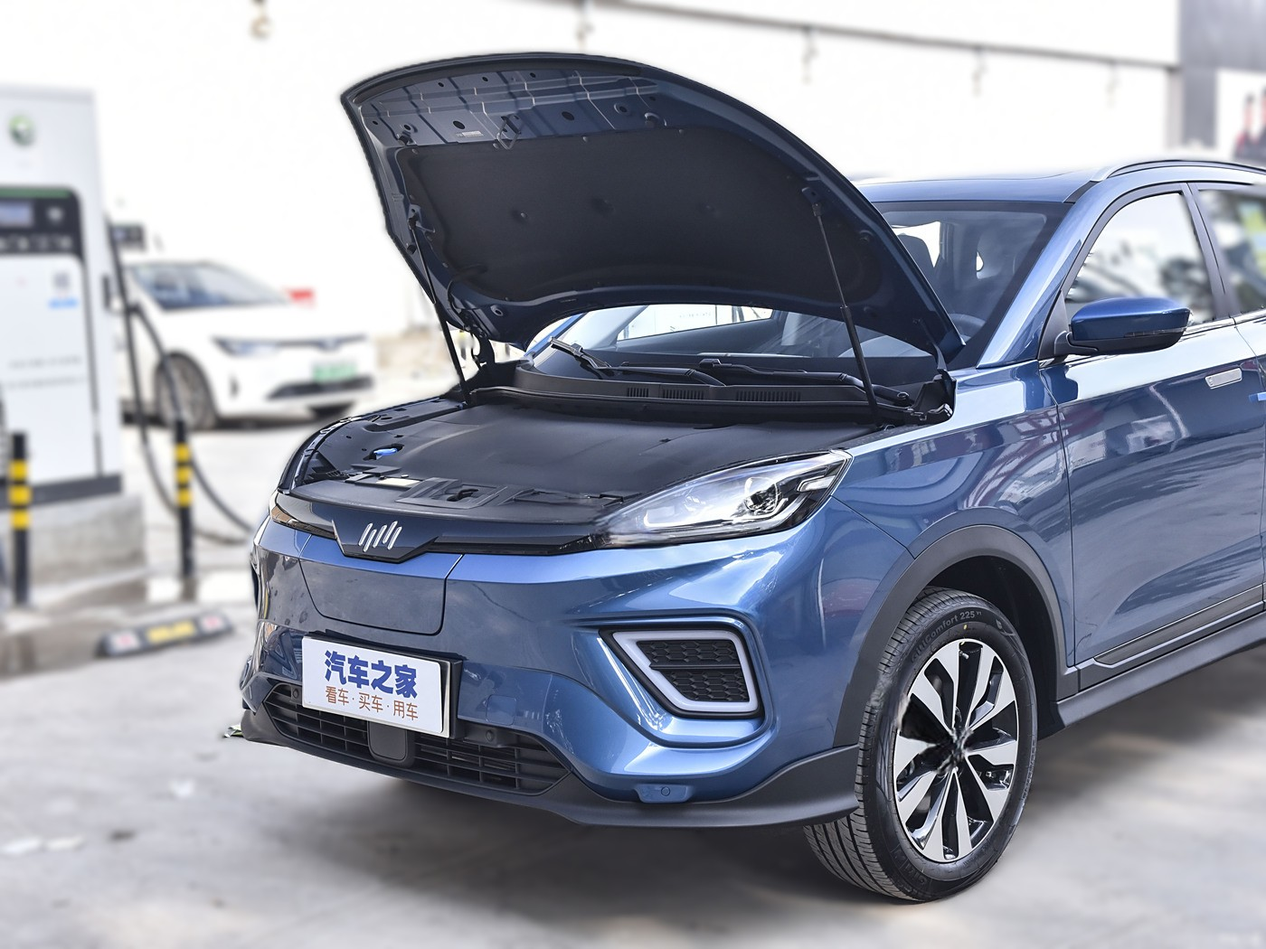WELTMEISTER: (359, 521, 401, 551)
